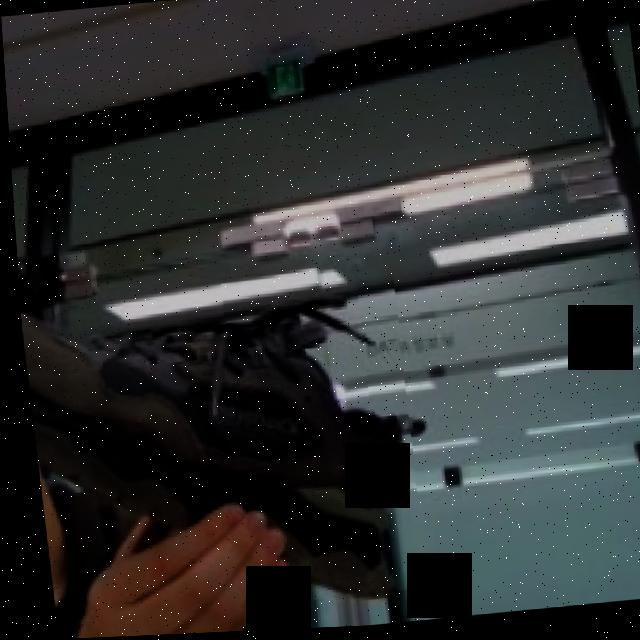shoe: (15, 269, 423, 627)
